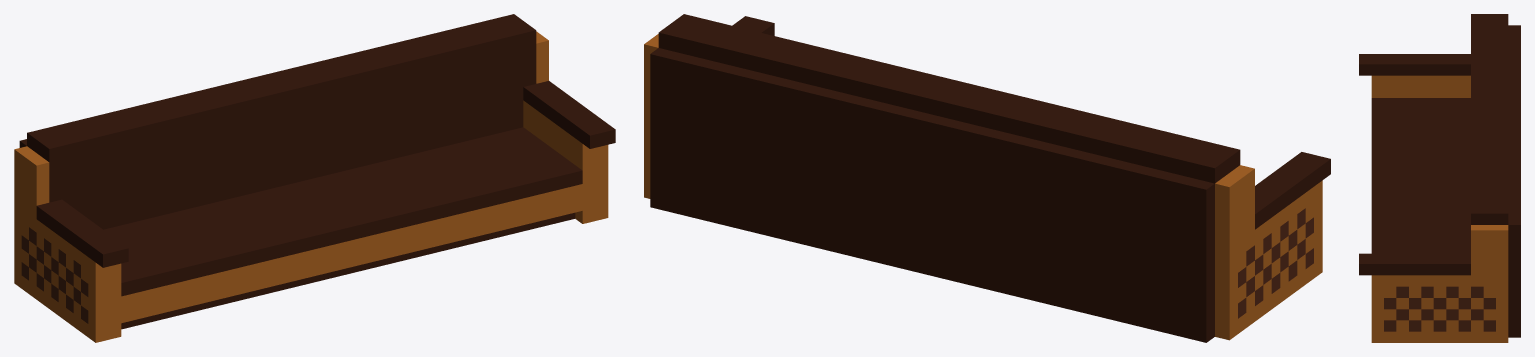
File: Sofa.obj
3 views of the same model, side by side, from view 1: azimuth 30°, elevation 25°; view 2: azimuth 150°, elevation 25°; view 3: azimuth 270°, elevation 25° (orthographic). The views are drawn at different scales.
Size of the model in its own units: 4 by 1.1 by 1.3.
1 material, 1 textured.
